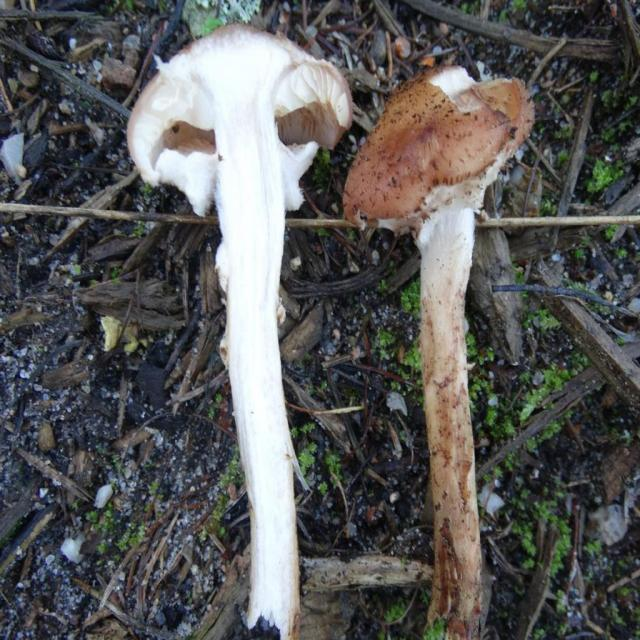Armillaria mellea: (129, 20, 351, 639), (346, 69, 533, 635)
